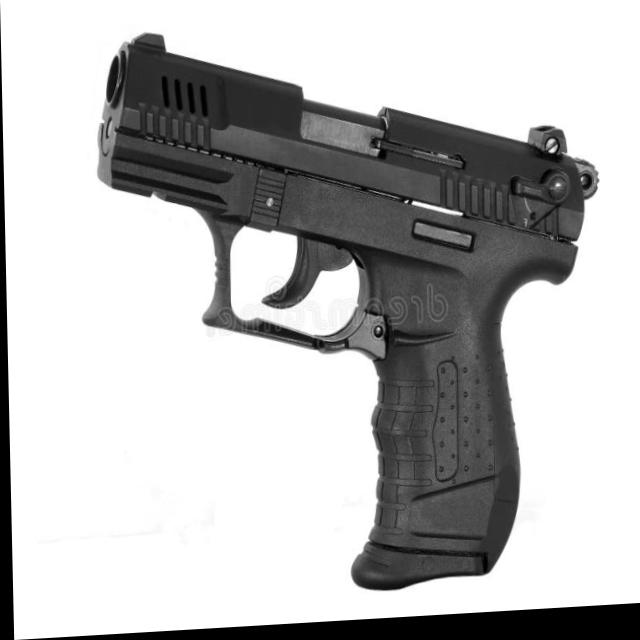handgun: (89, 15, 609, 609)
